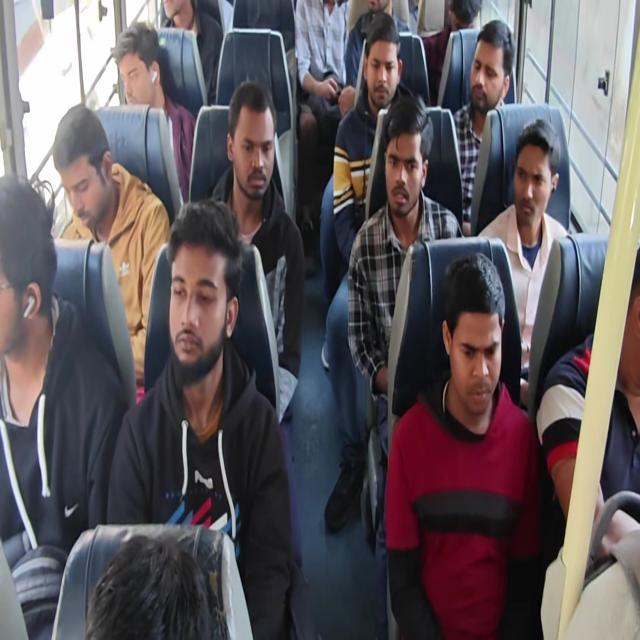person: (0, 171, 54, 384), (444, 278, 511, 432), (62, 112, 126, 236), (170, 231, 215, 390), (222, 108, 284, 213), (109, 26, 168, 136), (382, 111, 438, 204), (514, 124, 563, 216), (461, 31, 508, 117), (369, 34, 395, 110), (152, 0, 182, 32)
